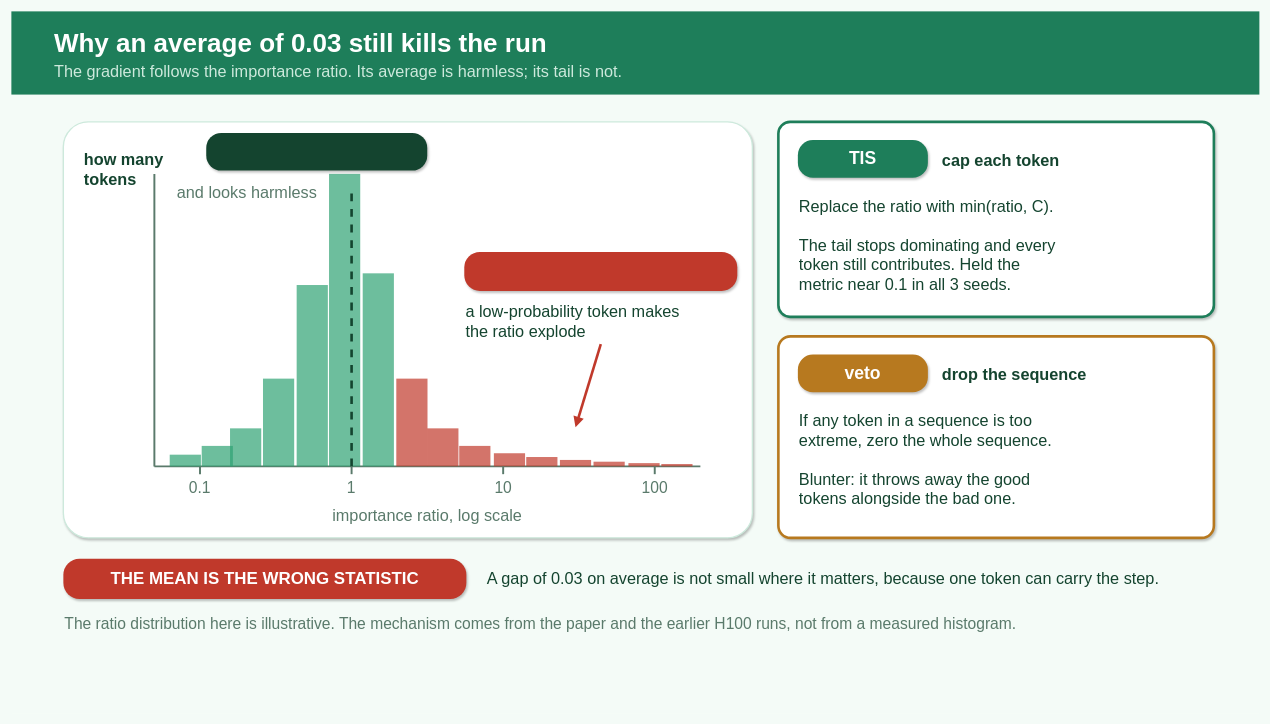
The diagram is 1270 pixels wide and 724 high, and some of its shapes have lost their labels. The shapes that lost their labels are listed below. From the top down, each one's centre as x and y in pixels, then its label:
[317,152]: the average sits here
[601,272]: one token, huge weight
